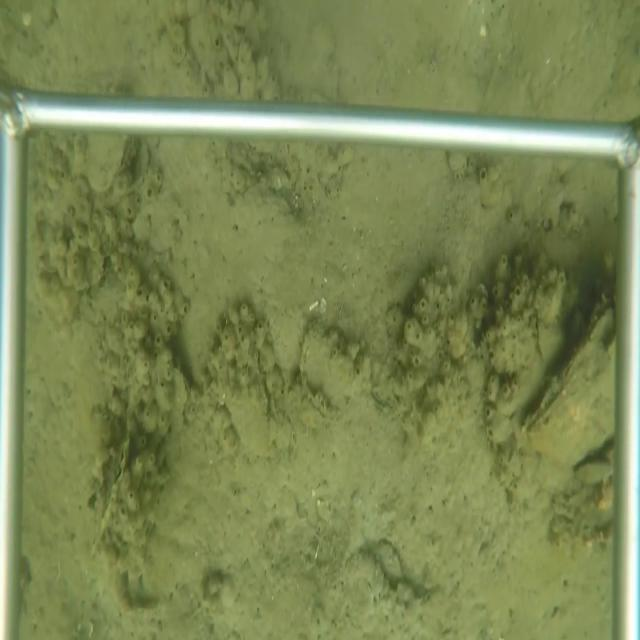Oyster-Closed: (519, 294, 615, 471), (89, 418, 133, 560), (87, 131, 138, 193), (254, 344, 274, 452), (117, 140, 154, 196), (171, 361, 194, 436)
Oyster-Indeterminate: (300, 315, 371, 422), (368, 537, 403, 586)
